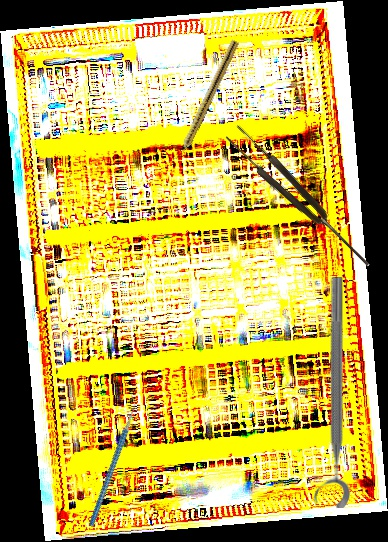Chopper: (49, 391, 175, 528)
Fixation Ring: (312, 277, 350, 508)
Handpiece: (173, 37, 240, 164)
Tissue Forceps: (223, 121, 377, 276)
